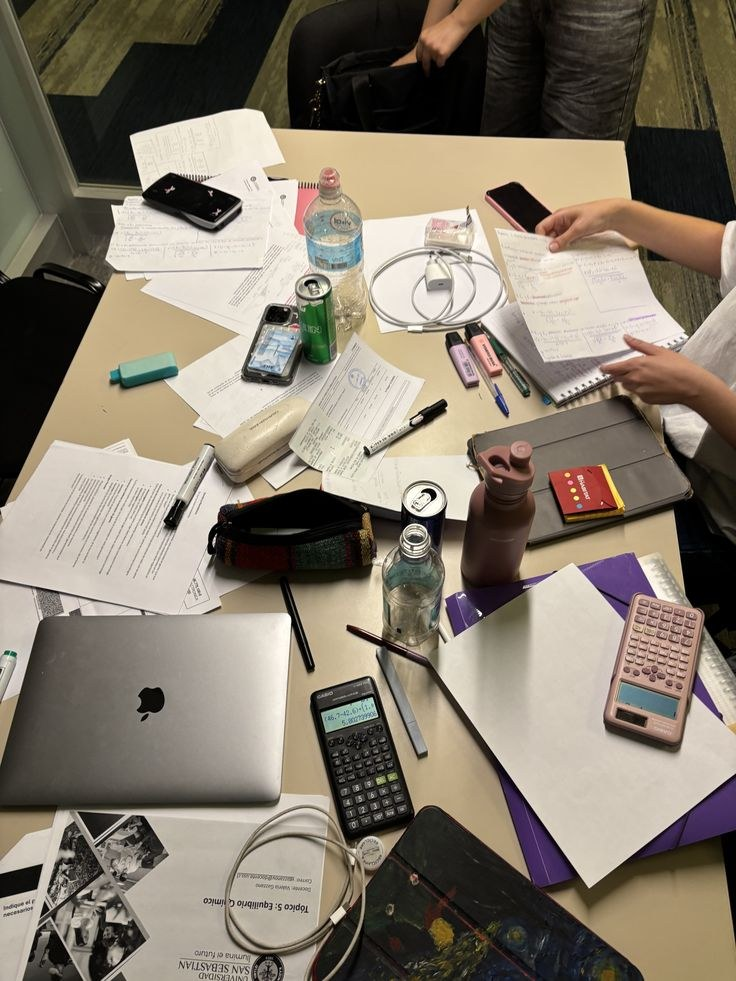cell phone: (141, 172, 243, 231), (241, 302, 303, 385), (485, 181, 554, 235)
laptop: (1, 611, 292, 808)
